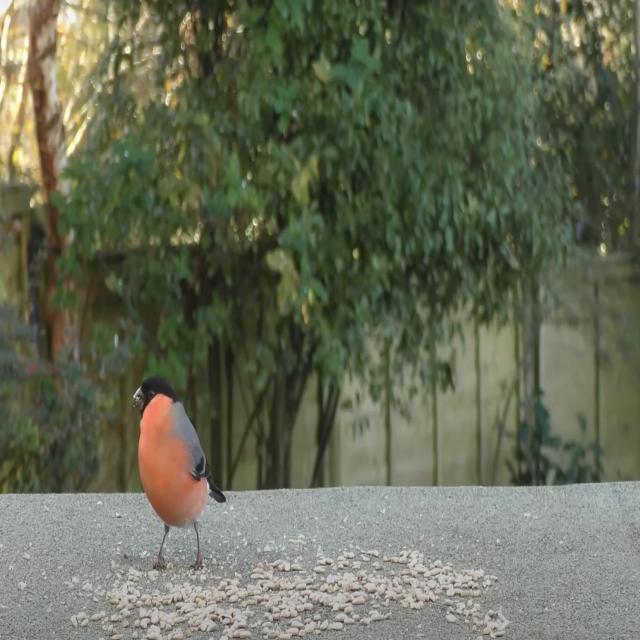beak: (132, 386, 144, 410)
bird: (129, 370, 224, 575)
